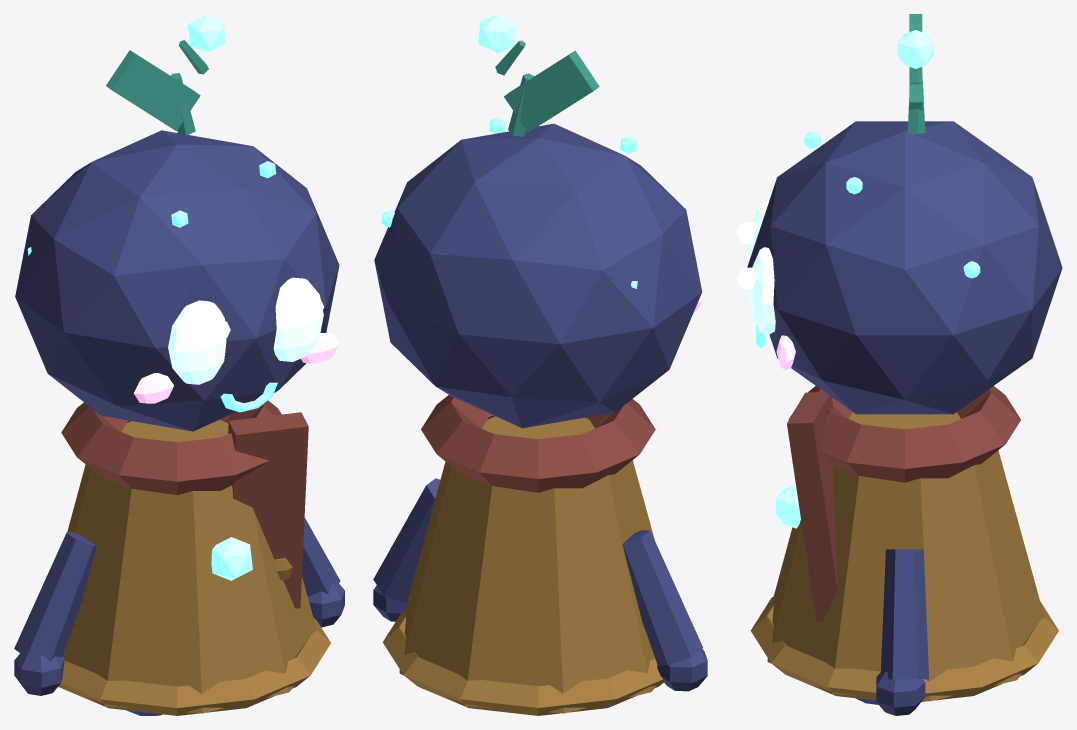
Rendered from enfant_modele.glb.
The picture shows the model from 3 angles, left to right: view 1: azimuth 30°, elevation 25°; view 2: azimuth 150°, elevation 25°; view 3: azimuth 270°, elevation 25°; orthographic projection.
Parts seen in each view (by area): view 1: Crane_Enfant, Robe_Enfant, Echarpe_Enfant, P23, P4, P8, P27, P14, P11, P9, P6, Coeur_Enfant (+5 smaller); view 2: Crane_Enfant, Robe_Enfant, Echarpe_Enfant, P4, P8, P27, P6, P9, P28, P7; view 3: Crane_Enfant, Robe_Enfant, Echarpe_Enfant, P4, P23, P6, P11, P7, P28, Coeur_Enfant, P27, P25.
Boxes of the visible parts, bbox=[...] form: Crane_Enfant: bbox=[15, 130, 339, 431]; Robe_Enfant: bbox=[62, 419, 316, 713]; Echarpe_Enfant: bbox=[61, 400, 281, 495]; P23: bbox=[228, 412, 308, 608]; P4: bbox=[58, 617, 330, 715]; P8: bbox=[14, 532, 96, 661]; P27: bbox=[106, 50, 200, 131]; P14: bbox=[168, 300, 226, 384]; P11: bbox=[273, 277, 323, 361]; P9: bbox=[14, 653, 64, 695]; P6: bbox=[302, 518, 340, 596]; Coeur_Enfant: bbox=[211, 537, 252, 580]; Crane_Enfant: bbox=[374, 123, 702, 428]; Robe_Enfant: bbox=[399, 416, 656, 713]; Echarpe_Enfant: bbox=[421, 395, 655, 492]; P4: bbox=[382, 611, 663, 715]; P8: bbox=[622, 530, 702, 665]; P27: bbox=[504, 50, 599, 132]; P6: bbox=[373, 478, 440, 603]; P9: bbox=[657, 649, 707, 691]; P28: bbox=[478, 14, 516, 53]; P7: bbox=[373, 585, 406, 621]; Crane_Enfant: bbox=[747, 121, 1062, 414]; Robe_Enfant: bbox=[767, 412, 1044, 701]; Echarpe_Enfant: bbox=[788, 386, 1020, 482]; P4: bbox=[750, 596, 1058, 701]; P23: bbox=[787, 392, 837, 620]; P6: bbox=[880, 549, 929, 679]; P11: bbox=[749, 247, 775, 334]; P7: bbox=[876, 671, 925, 715]; P28: bbox=[897, 30, 933, 68]; Coeur_Enfant: bbox=[776, 485, 800, 528]; P27: bbox=[909, 14, 922, 110]; P25: bbox=[907, 68, 925, 134].
Bounding box in the file's own units: 0.6927 × 1.36 × 0.6026.
